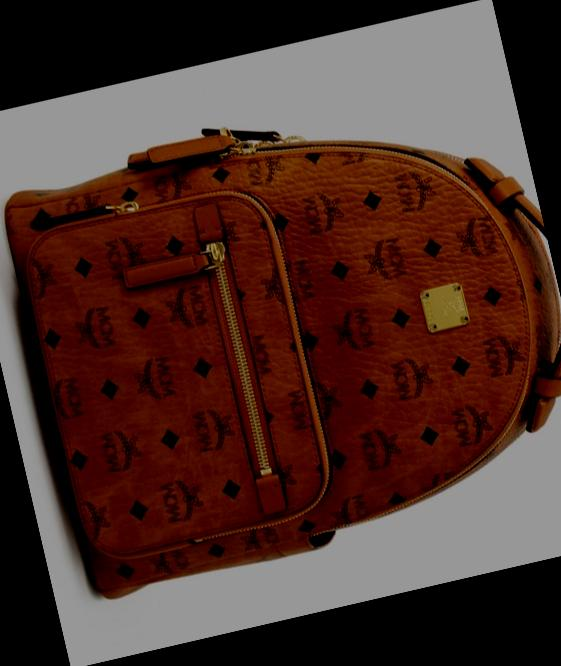MCM: (0, 67, 561, 608)
